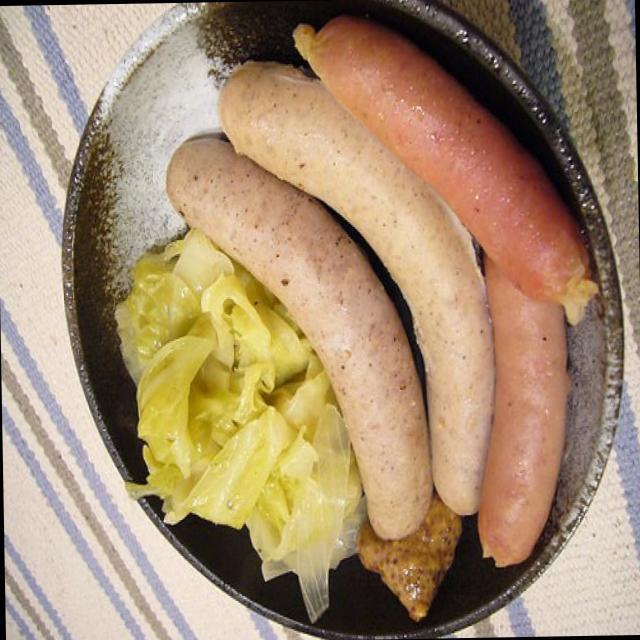Sausage: (184, 12, 631, 572)
